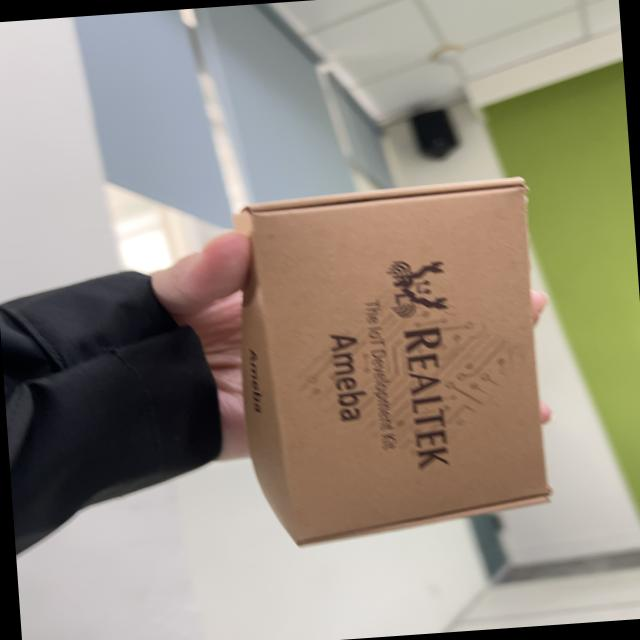box: (221, 166, 565, 562)
